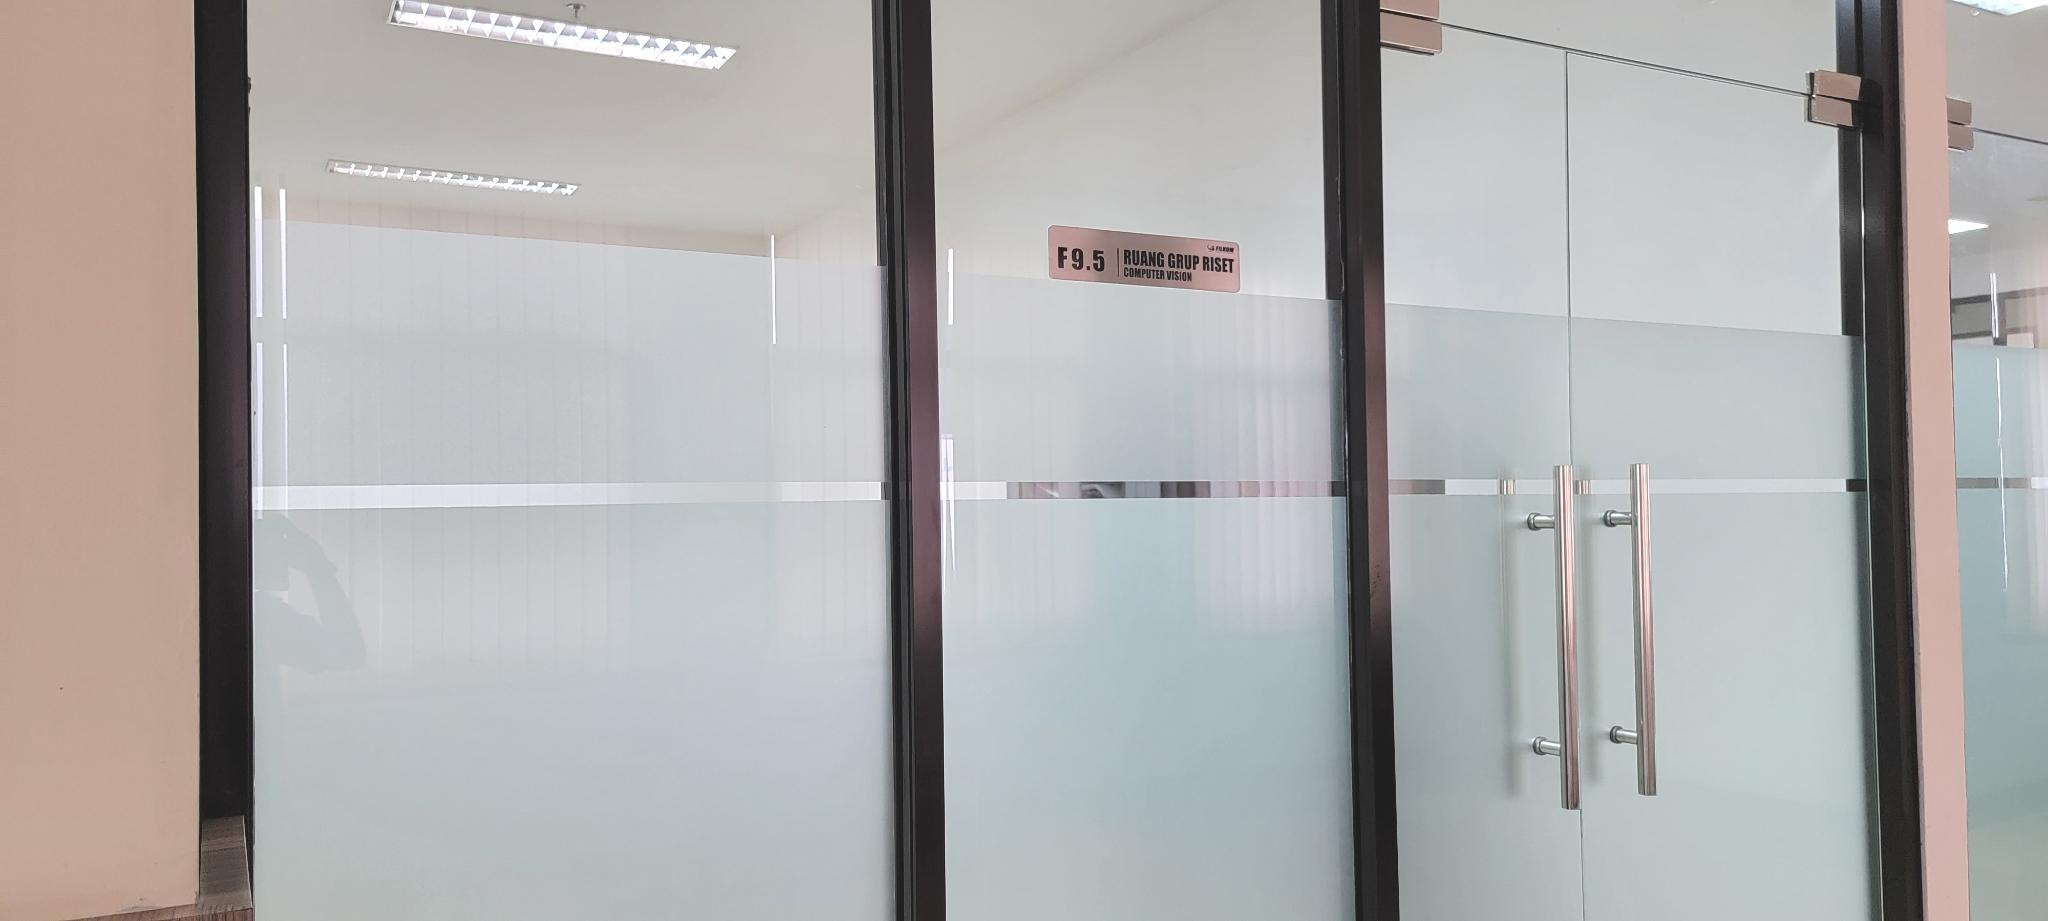plate: (1049, 222, 1242, 295)
